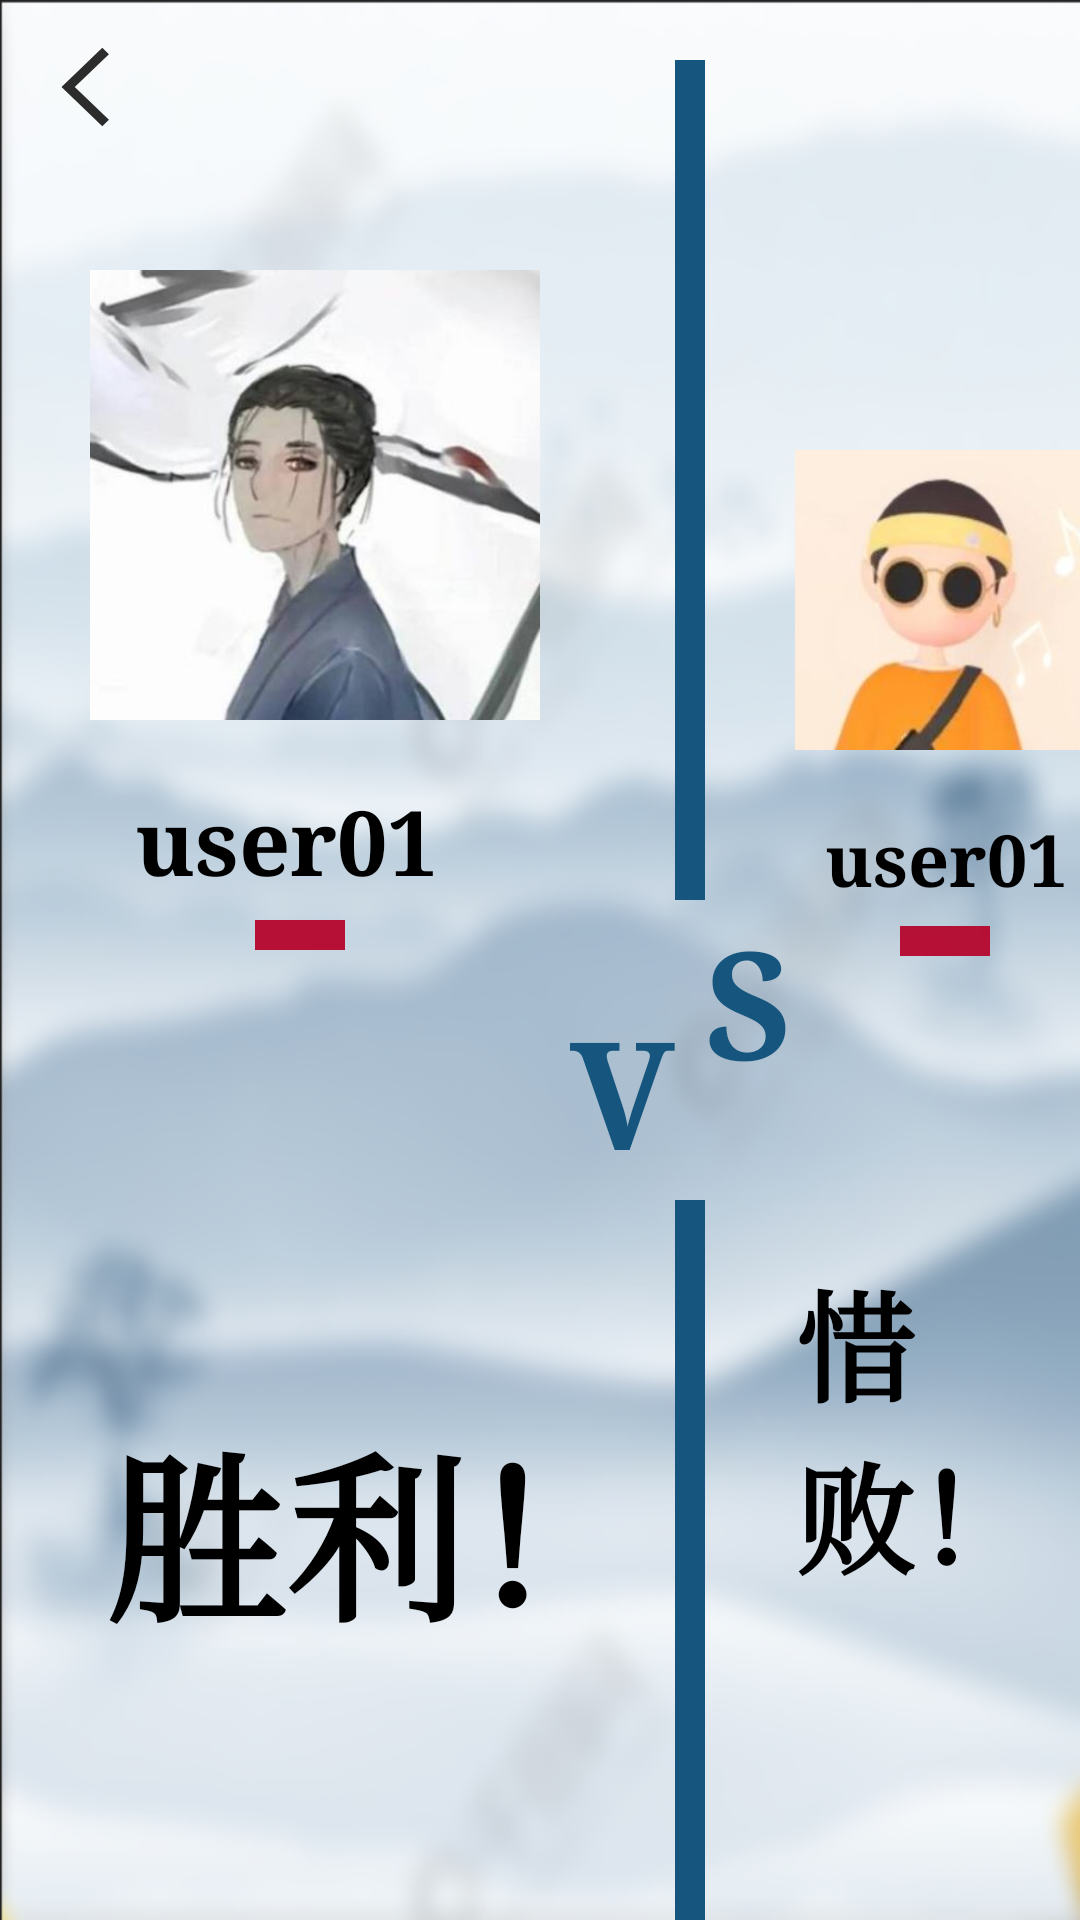

Screen size 1080px×1920px. Icon name, then its box in pixels as (x1, y1, x2, y2):
back: (61, 48, 109, 126)
